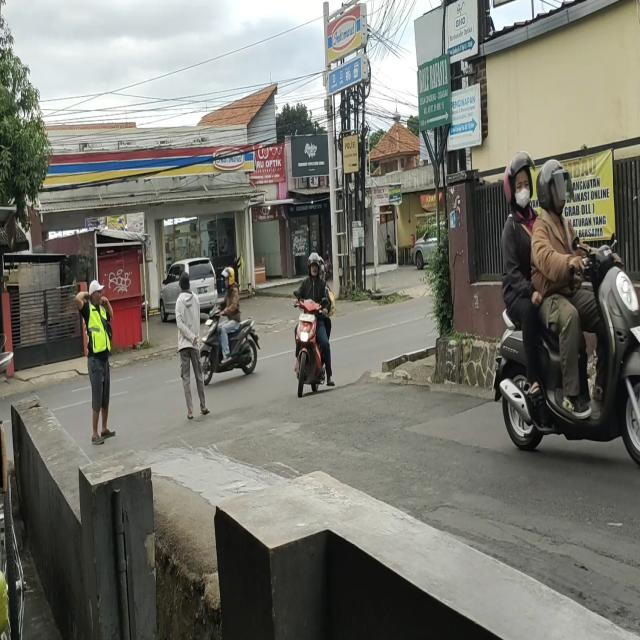helmet: (537, 160, 569, 208), (504, 153, 532, 206), (308, 253, 320, 276), (221, 268, 235, 287)
